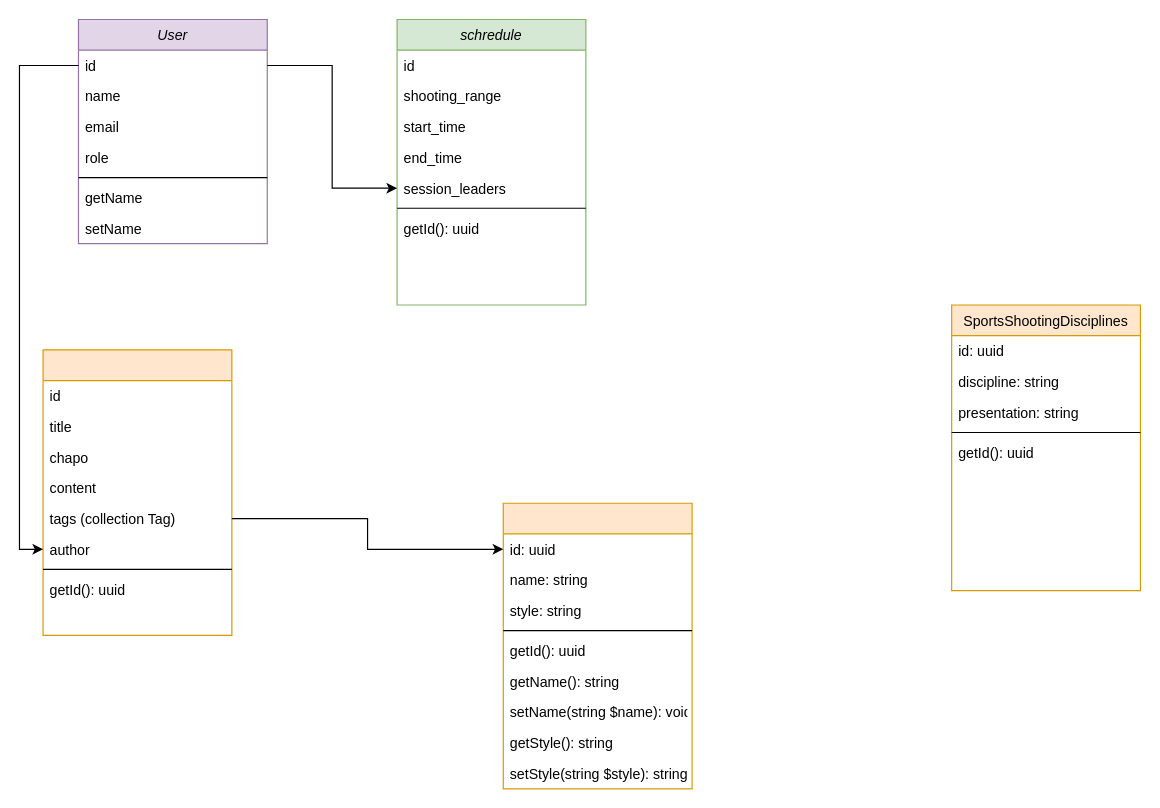
Some shapes in this 1160 by 808 pixel diagram are drawn without their labels. The shapes that lost their labels are listed below. From the top down, each one's box as (x1, y1, x2, y2) in pixels, then its label:
(42, 349, 232, 635): BlogPost
(502, 502, 692, 789): Tag
